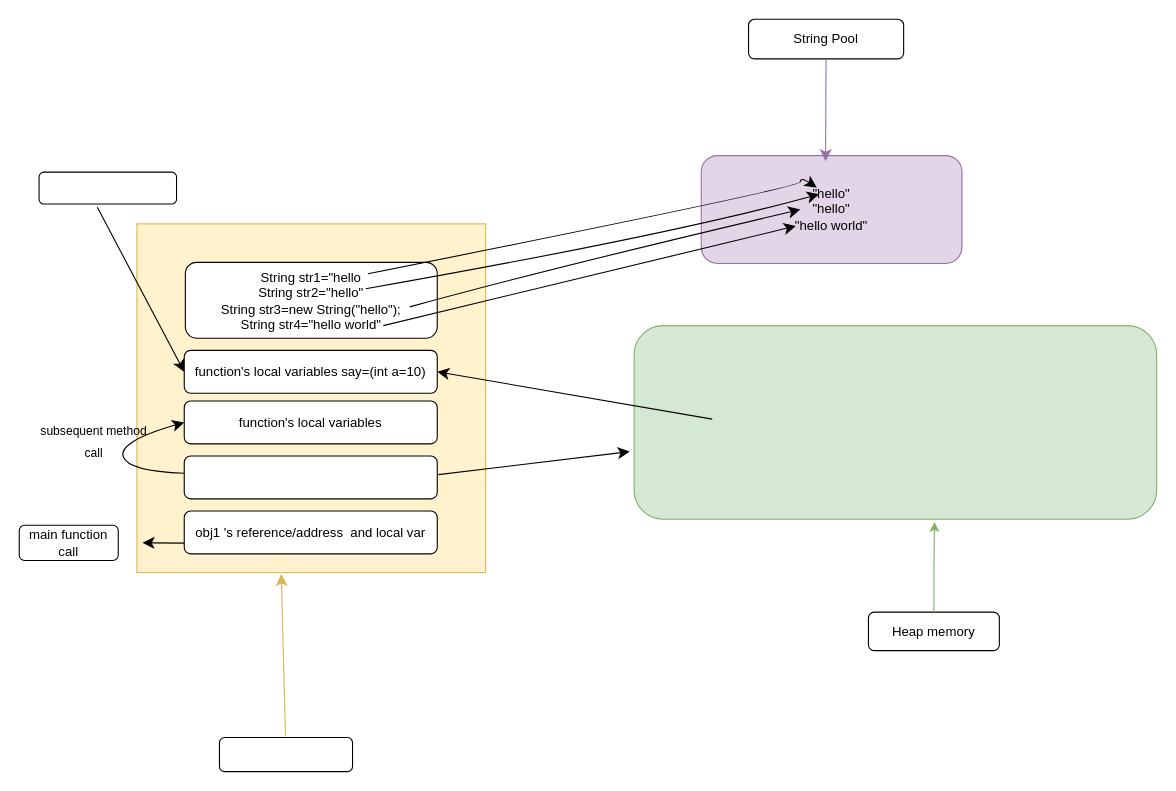
The diagram is 1176 pixels wide and 791 high, and some of its shapes have lost their labels. The centre of each missing label's shape, as x and y in pixels:
next method call (in execution flow) whether recursive or non recursive: the point at 310,477
Stack Frames: the point at 107,187
Stack memory: the point at 285,754
{ property1="value1" function call() property3="value3" }: the point at 895,421
